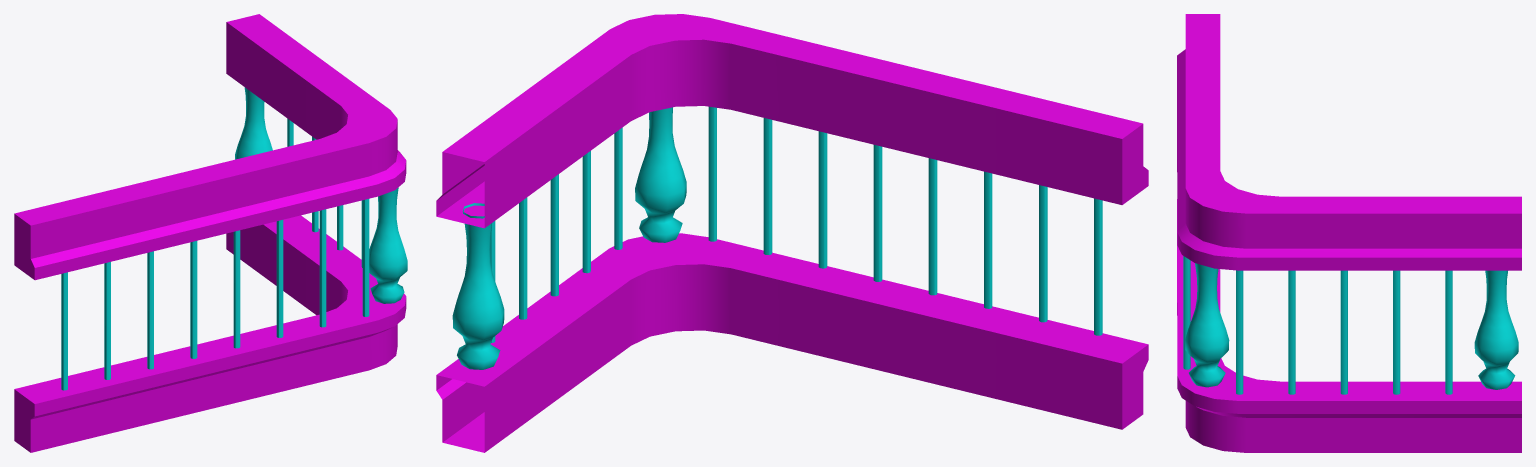
The model's file is balkuni_03.fbx.
The picture shows the model from 3 angles, left to right: view 1: azimuth 30°, elevation 25°; view 2: azimuth 150°, elevation 25°; view 3: azimuth 270°, elevation 25°; orthographic projection. The views are drawn at different scales.
Visible parts, largest first — view 1: polySurface217, polySurface226, polySurface211, polySurface227, polySurface219, polySurface220, polySurface218, polySurface221, polySurface222, polySurface225, polySurface223, polySurface224; view 2: polySurface226, polySurface217, polySurface227, polySurface211, polySurface221, polySurface222, polySurface219, polySurface220, polySurface225, polySurface224, polySurface223, polySurface218 (+4 smaller); view 3: polySurface217, polySurface226, polySurface211, polySurface227, polySurface212, polySurface215, polySurface213, polySurface214, polySurface216, polySurface218.
Boxes of the visible parts, <box> form: polySurface217: <box>14,14,406,280</box>; polySurface226: <box>14,215,406,452</box>; polySurface211: <box>369,187,407,303</box>; polySurface227: <box>235,87,272,159</box>; polySurface219: <box>319,209,326,327</box>; polySurface220: <box>233,230,240,348</box>; polySurface218: <box>362,199,369,316</box>; polySurface221: <box>276,220,283,337</box>; polySurface222: <box>190,241,197,358</box>; polySurface225: <box>61,272,67,390</box>; polySurface223: <box>147,251,153,369</box>; polySurface224: <box>104,262,110,379</box>; polySurface226: <box>436,233,1148,452</box>; polySurface217: <box>436,14,1148,228</box>; polySurface227: <box>452,203,504,369</box>; polySurface211: <box>635,107,686,242</box>; polySurface221: <box>818,131,827,268</box>; polySurface222: <box>928,158,937,295</box>; polySurface219: <box>763,118,772,254</box>; polySurface220: <box>873,145,882,281</box>; polySurface225: <box>1094,198,1102,335</box>; polySurface224: <box>1039,185,1047,322</box>; polySurface223: <box>984,171,992,308</box>; polySurface218: <box>708,106,716,241</box>; polySurface217: <box>1177,14,1521,270</box>; polySurface226: <box>1177,199,1521,452</box>; polySurface211: <box>1185,263,1229,387</box>; polySurface227: <box>1474,270,1518,389</box>; polySurface212: <box>1445,270,1452,394</box>; polySurface215: <box>1288,270,1295,394</box>; polySurface213: <box>1393,270,1400,394</box>; polySurface214: <box>1340,270,1347,394</box>; polySurface216: <box>1236,270,1243,394</box>; polySurface218: <box>1183,256,1190,369</box>.
Bounding box in the file's own units: 277 × 153 × 200.
